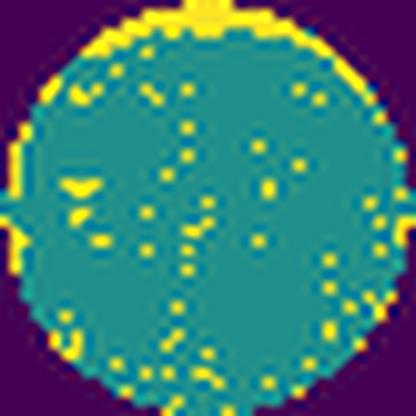Edge-Loc: (79, 0, 368, 95), (5, 213, 35, 273)
